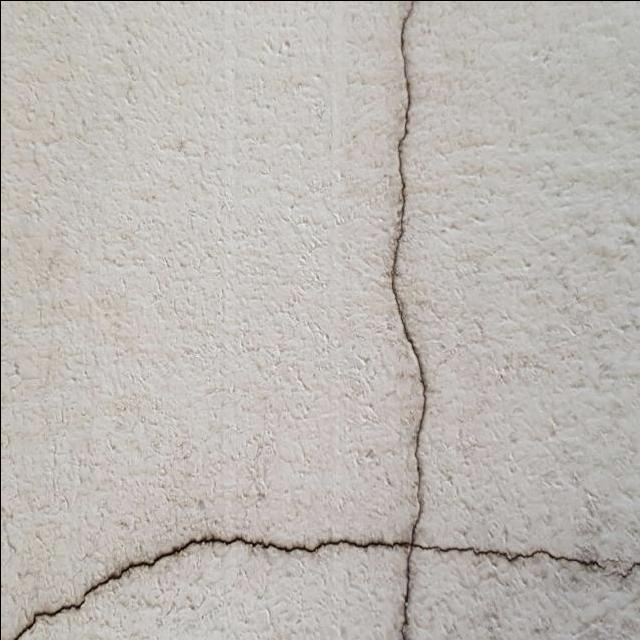SurfaceCrack: (343, 0, 471, 622), (0, 496, 446, 640)
